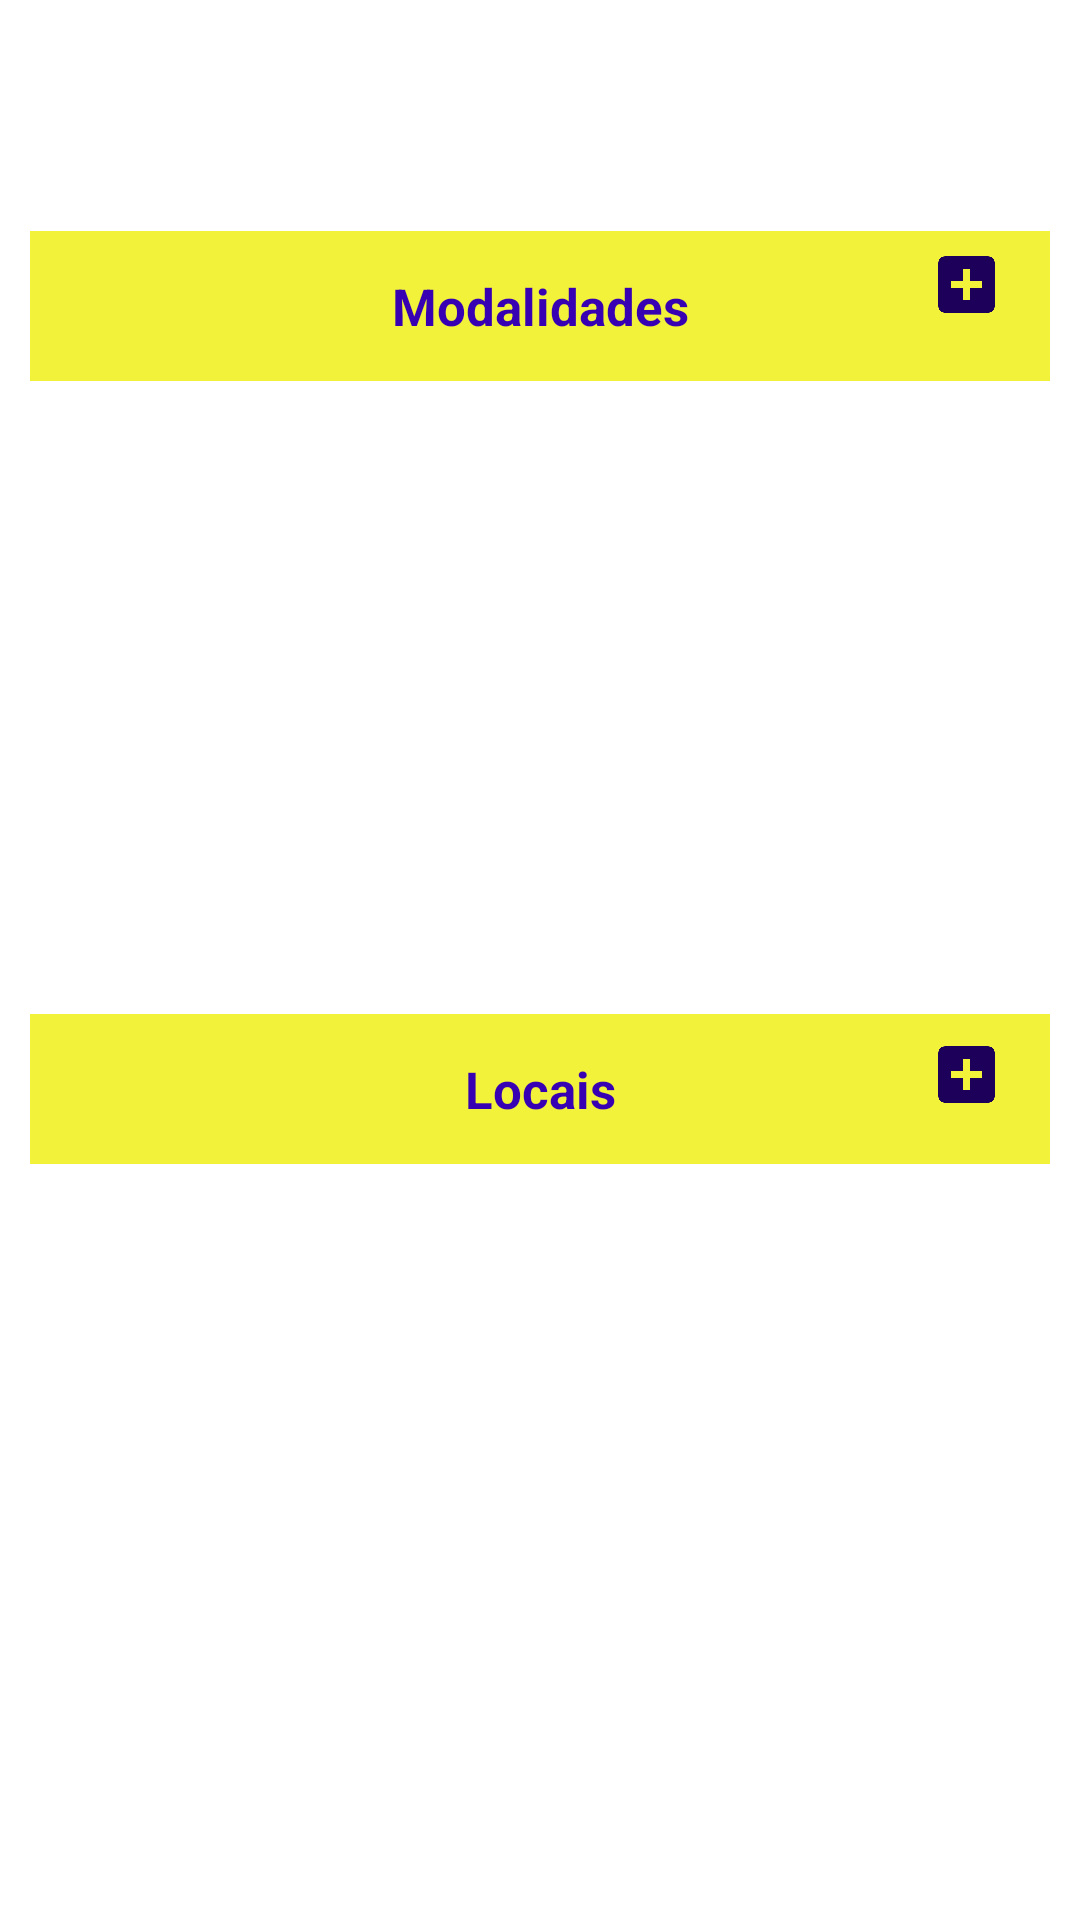

Locate icon controls on the screen. Image size 1080 × 1920, boxes as (x1, y1, x2, y2).
add: (938, 256, 995, 313), (938, 1046, 995, 1103)
